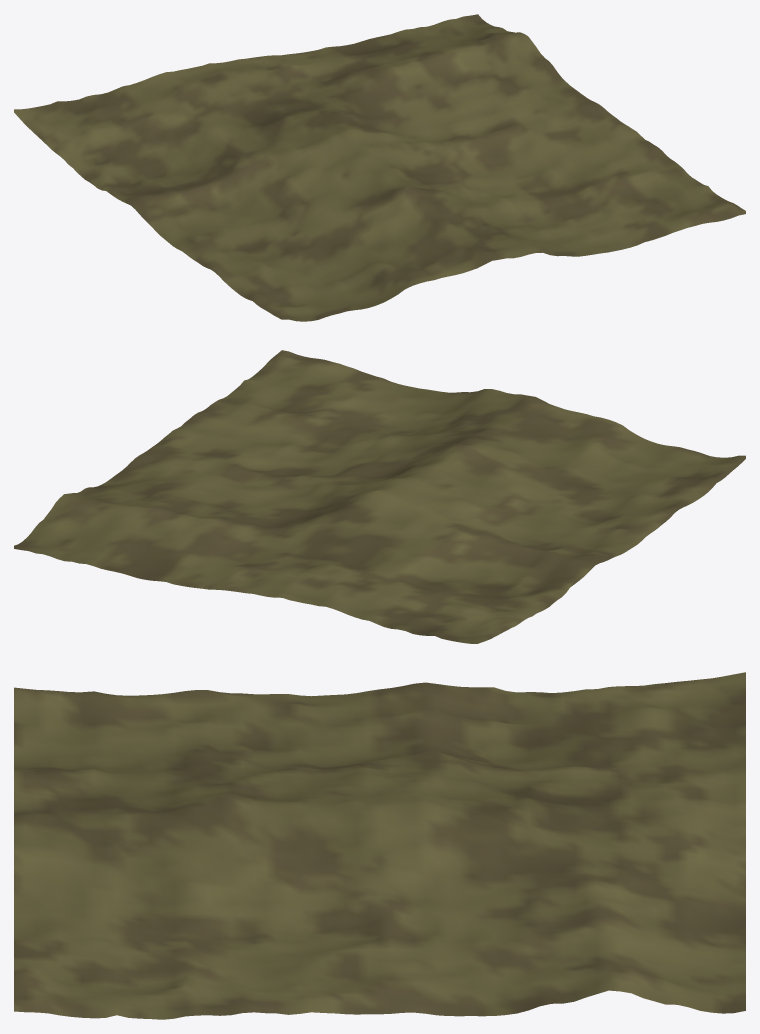
The model's file is land_f_04_01.glb.
3 views of the same model, one above another, from view 1: azimuth 30°, elevation 25°; view 2: azimuth 150°, elevation 25°; view 3: azimuth 270°, elevation 25° (orthographic). The views are drawn at different scales.
Visible parts, largest first — view 1: land_f_04_01; view 2: land_f_04_01; view 3: land_f_04_01.
Part boxes in pixels (box(x1,y1,x2,y2)): land_f_04_01: box(14, 14, 745, 321); land_f_04_01: box(14, 350, 745, 643); land_f_04_01: box(14, 672, 745, 1019).
Size of the model in its own units: 3840 by 304 by 3840.
